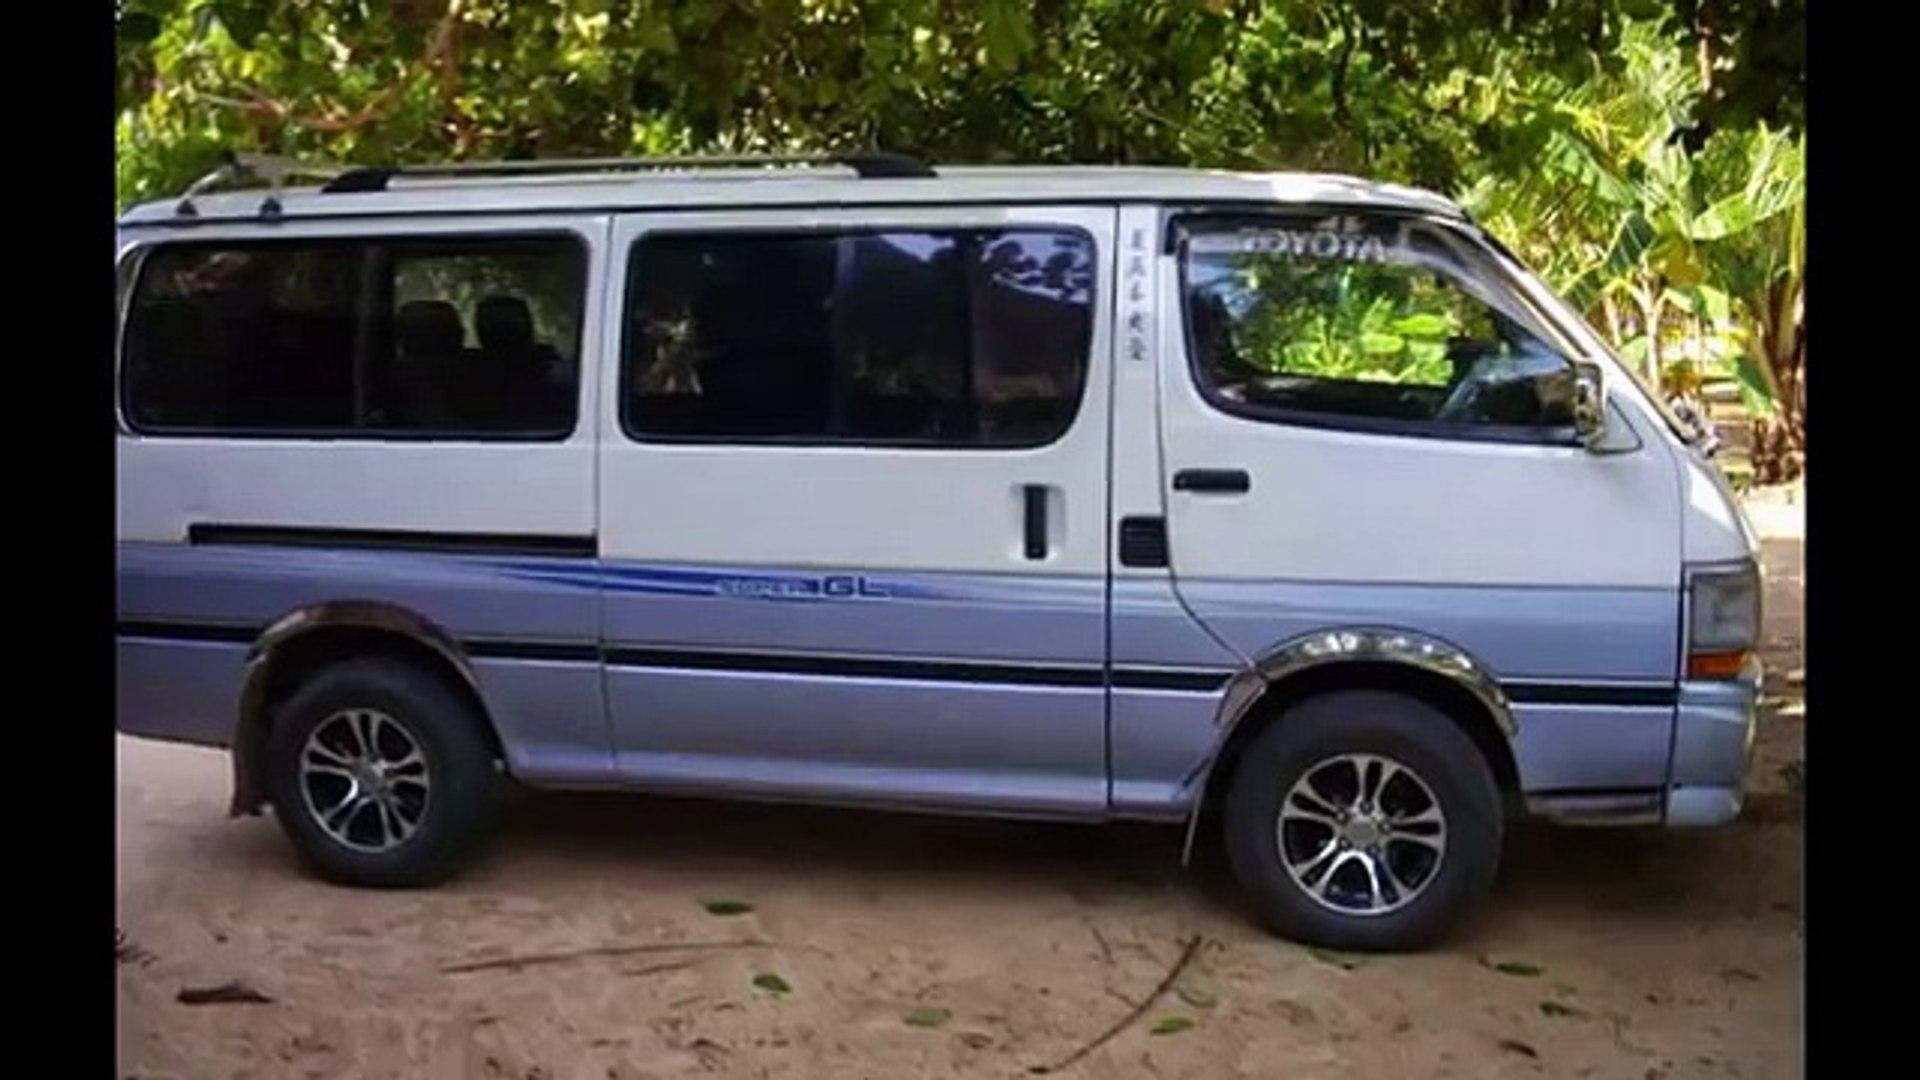car: (109, 158, 1763, 961)
